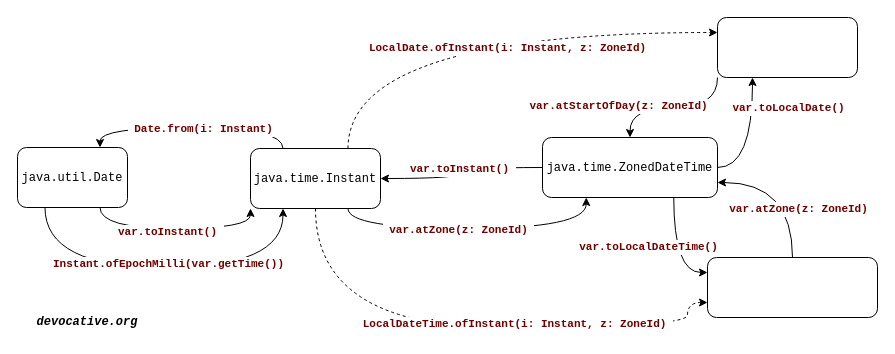
Some shapes in this 895 by 354 pixel diagram are drawn without their labels. The shapes that lost their labels are listed below. From the top down, each one's centre as x and y in pixels, then its label:
At point 787,47: "java.time.LocaDate".
At point 792,287: "java.time.LocaDateTime".
